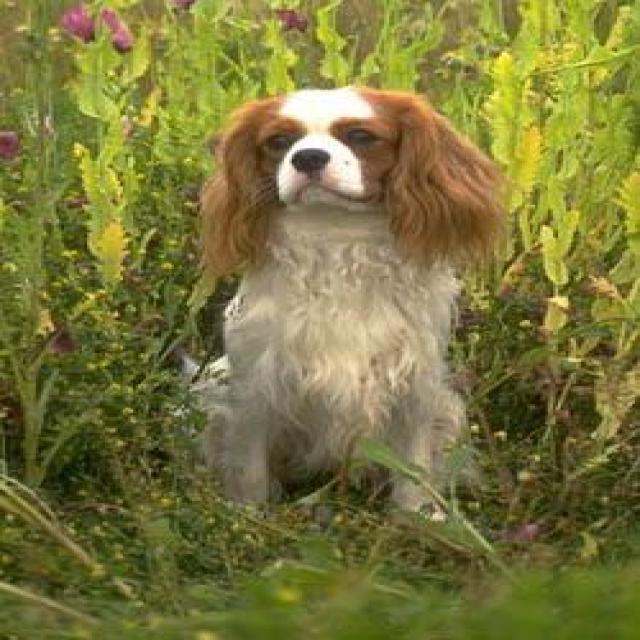blenheim_spaniel: (164, 82, 517, 523)
